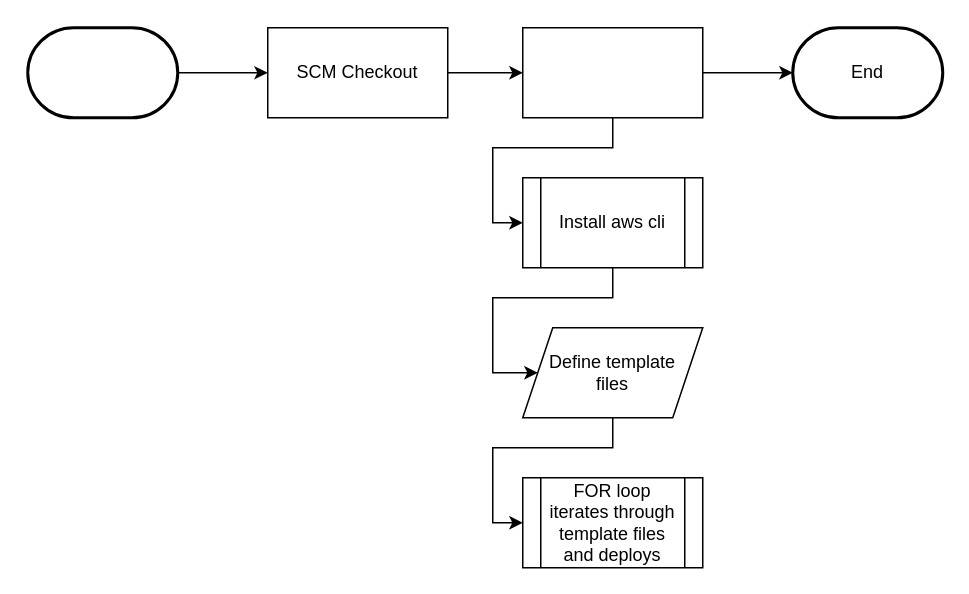
This 969x594 diagram has some shape labels left out. Here are the shapes that lost their labels. From the top down, the centre of each, then its label:
At pixel 102 72: "Start".
At pixel 612 72: "Deploy CloudFormation Stack".
